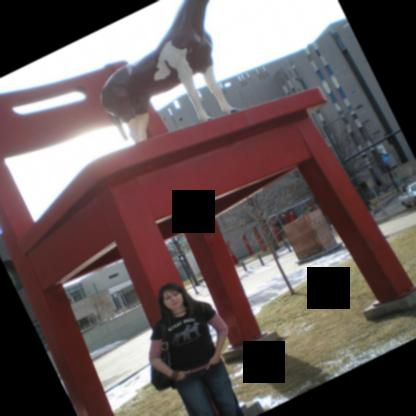handbag: (150, 319, 180, 392)
